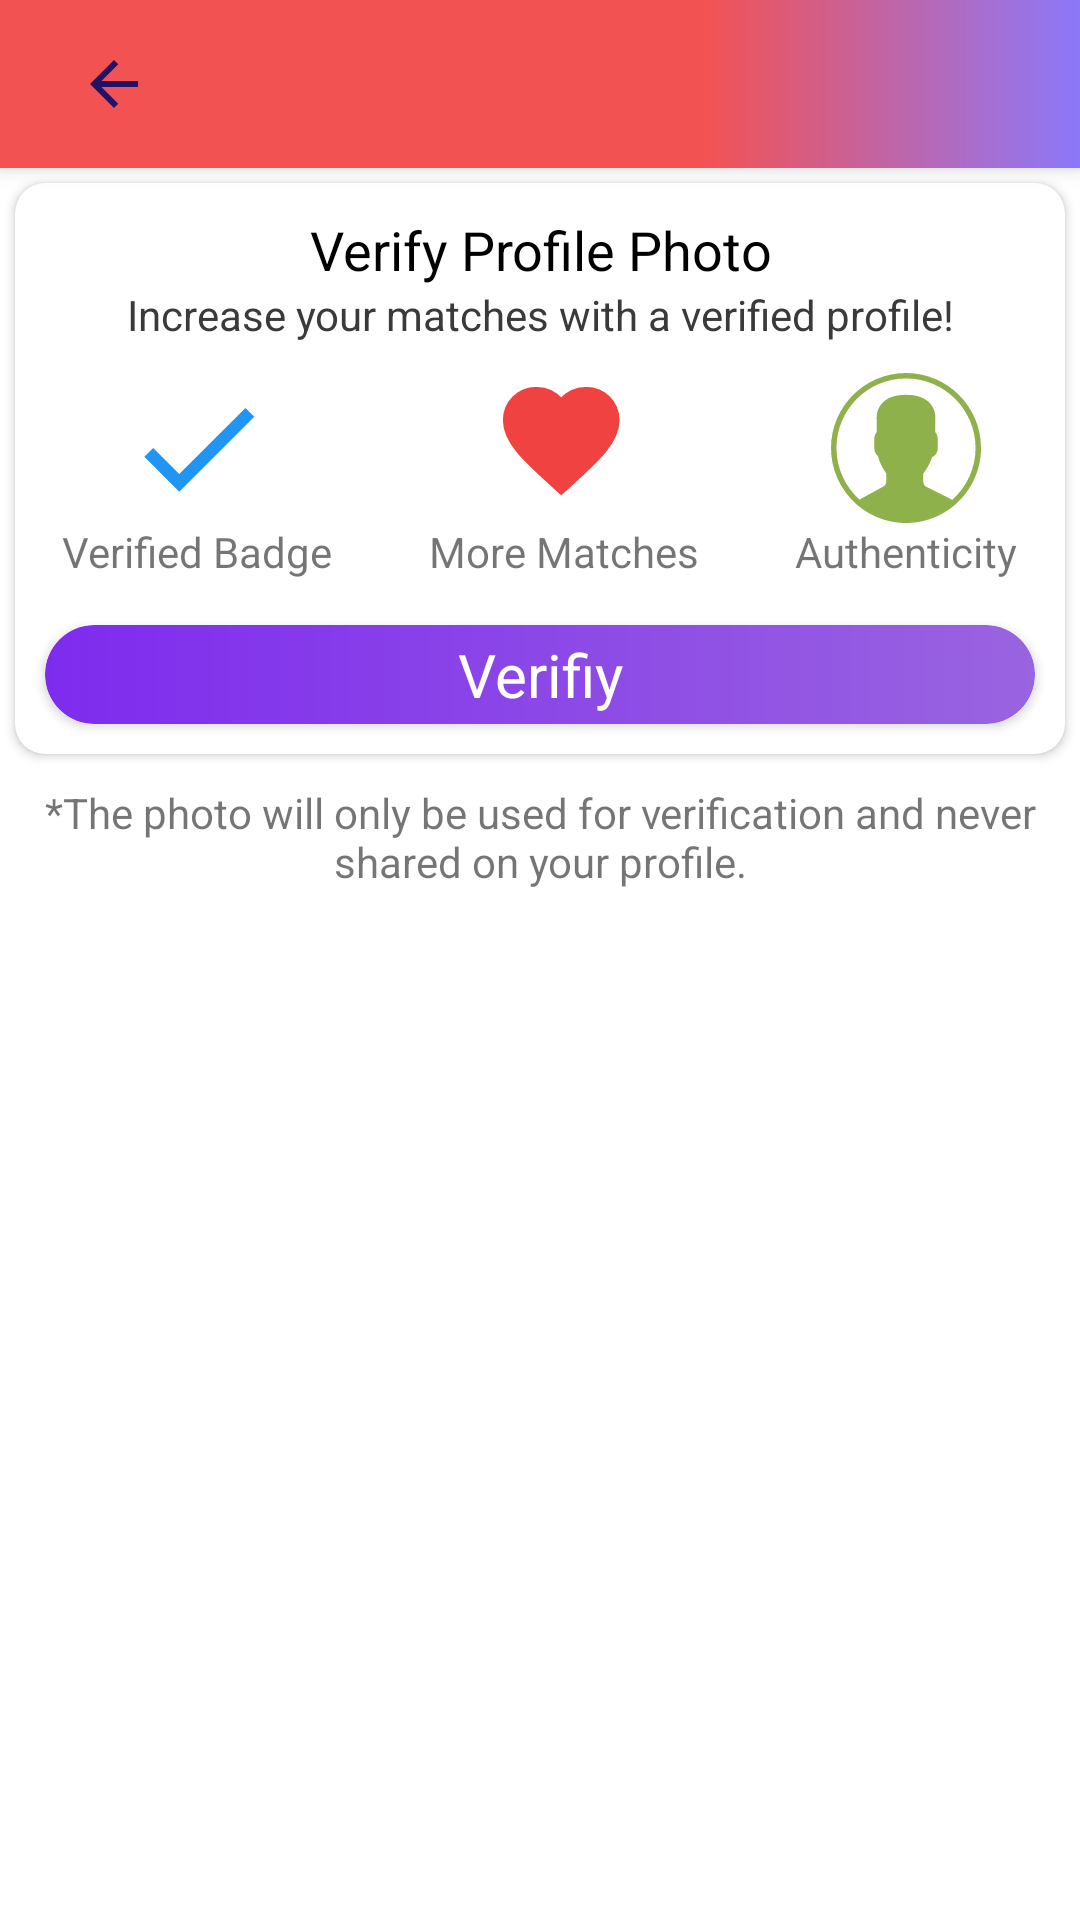

Screen size 1080w x 1920h. Icon name, then its box in pixels as (x1, y1, x2, y2):
account: (831, 373, 981, 523)
arrow back: (90, 60, 138, 108)
check verified: (144, 408, 254, 492)
heart: (503, 387, 620, 495)
